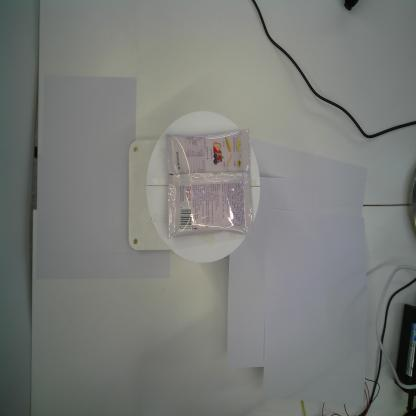Instant Drink: (164, 127, 253, 240)
